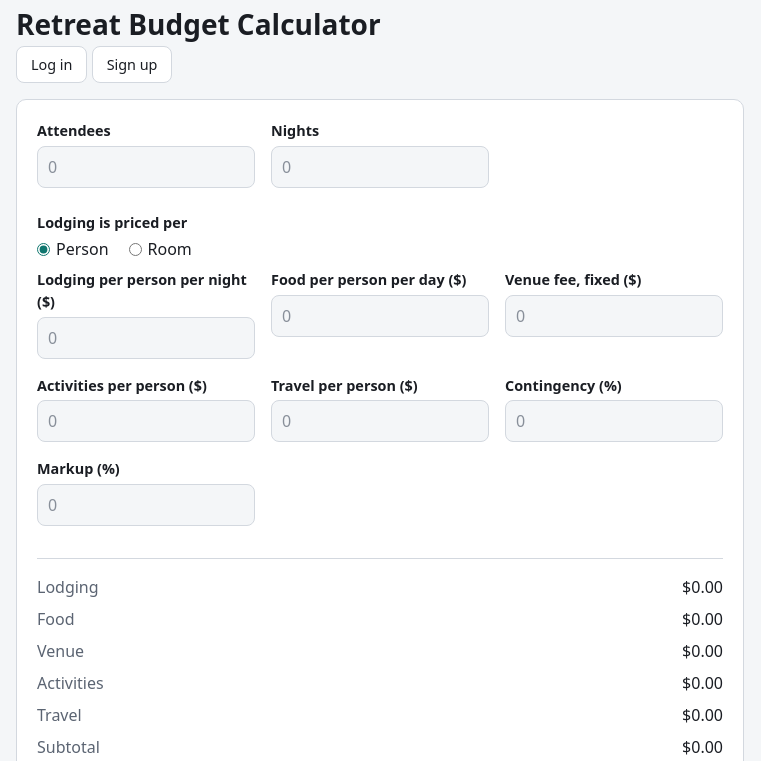
Test case: lodging mode (signed out) › rounds rooms up: 7 people at 2 per room need 4 rooms
Type "7" into the number field labelled "Attendees".
click(146, 167); type("7")  # box [37, 146, 255, 188]
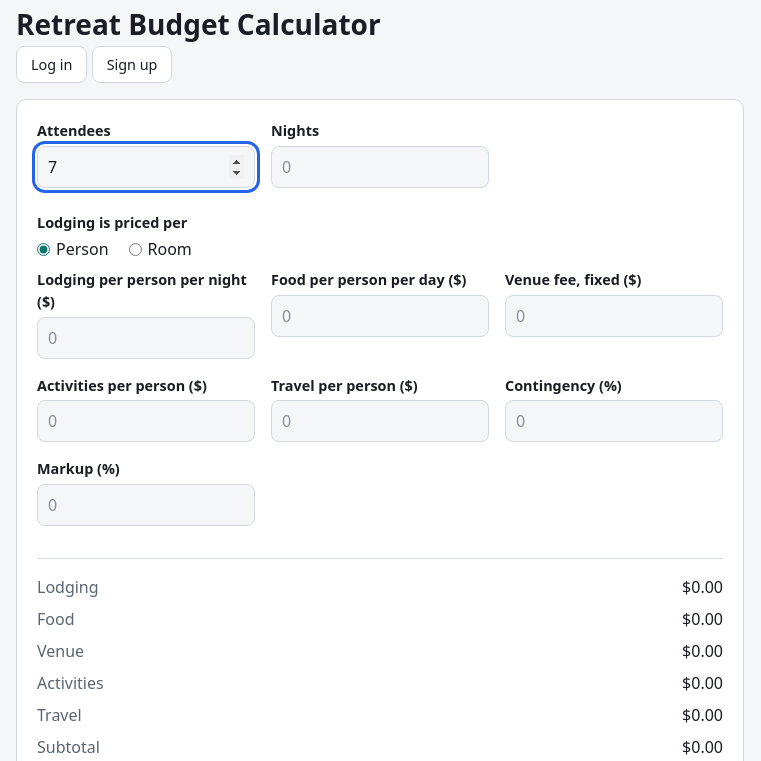
Type "3" into the number field labelled "Nights".
click(380, 167); type("3")  # box [271, 146, 489, 188]
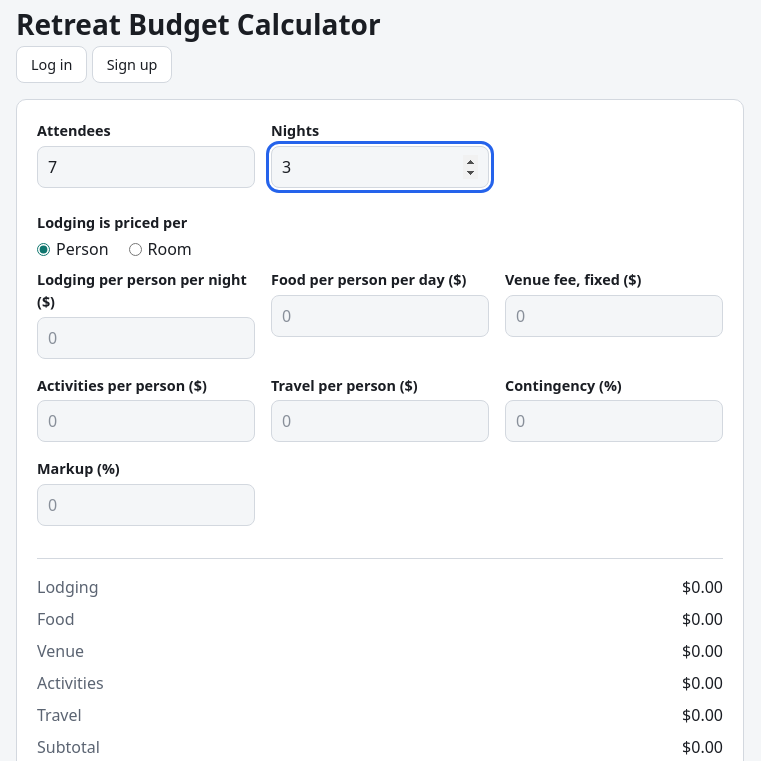
Click the radio button labelled "Room".
click(135, 249)  # box [128, 243, 142, 256]
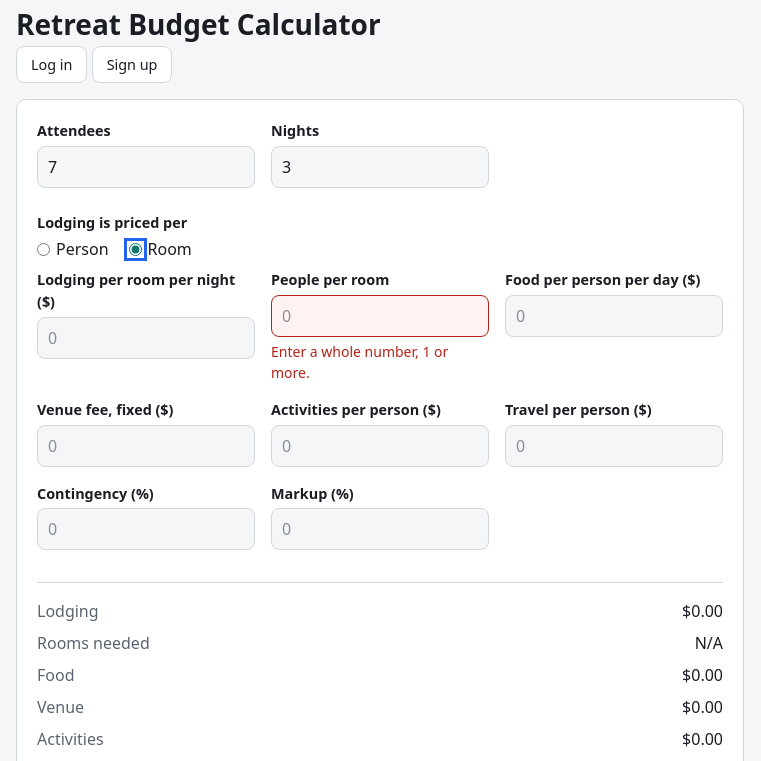
Type "150" into the number field labelled "Lodging per room per night ($)".
click(146, 338); type("150")  # box [37, 317, 255, 359]
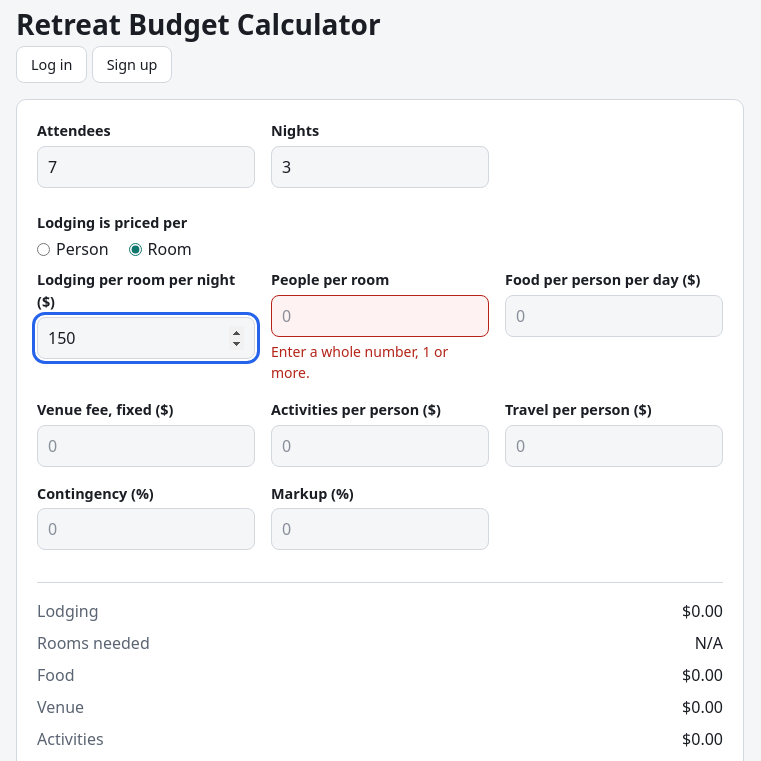
Type "2" into the number field labelled "People per room".
click(380, 316); type("2")  # box [271, 295, 489, 337]
(page scrolled)
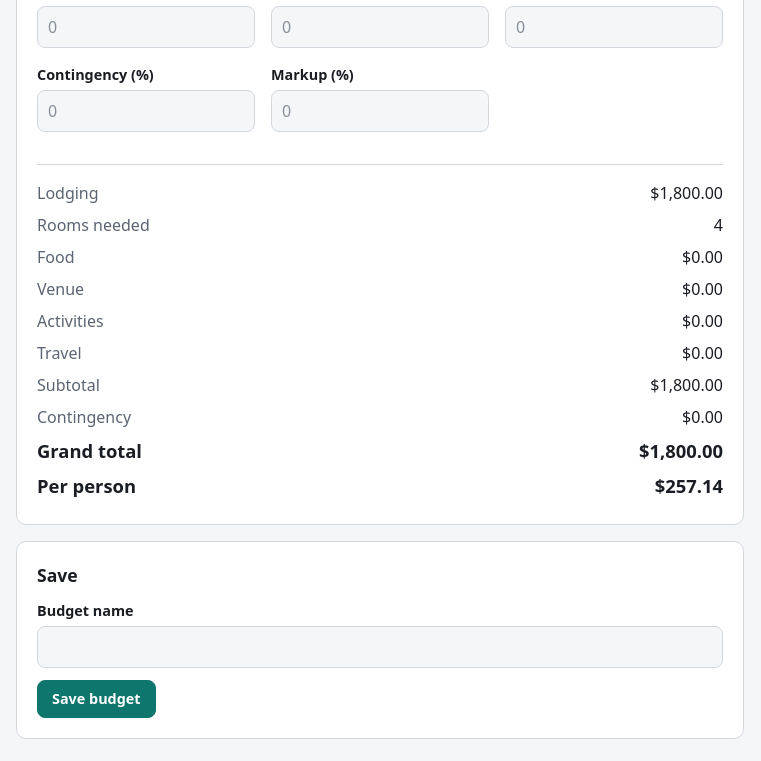
expect the text with test id "rooms-needed" reads "4": met, box [714, 214, 723, 236]
expect the text with test id "subtotal" reads "$1,800.00": met, box [650, 374, 723, 396]
